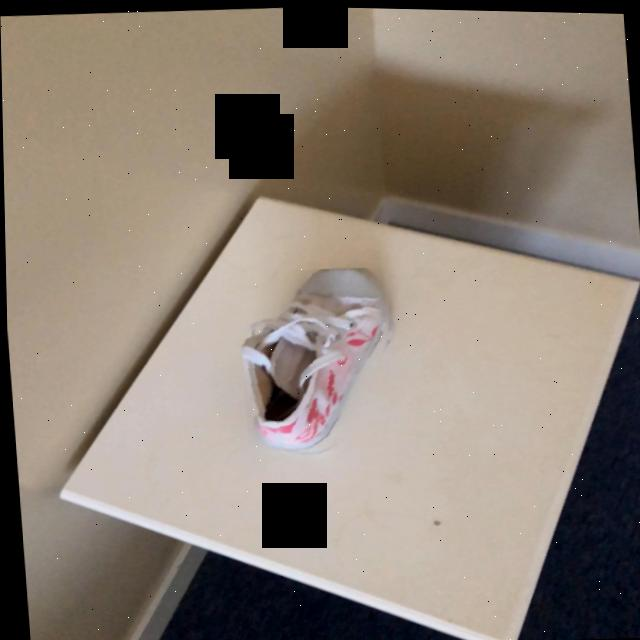shoe: (240, 266, 388, 453)
